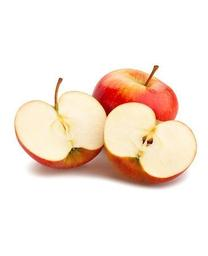apple: (15, 77, 108, 168), (103, 103, 196, 181), (91, 64, 177, 120)
